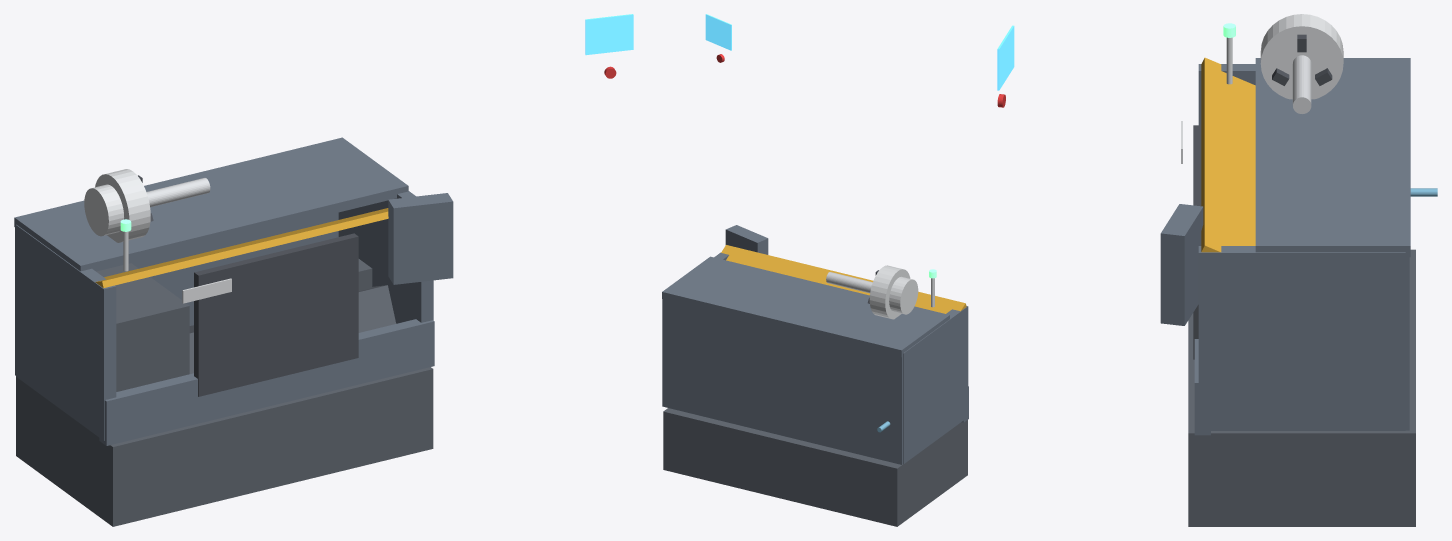
The model's file is lathe_01.glb.
3 renders of one model, left to right at view 1: azimuth 30°, elevation 25°; view 2: azimuth 150°, elevation 25°; view 3: azimuth 270°, elevation 25°, orthographic. The views are drawn at different scales.
Parts seen in each view (by area): view 1: LATHE_01_BASE, LATHE_01_ENCLOSURE_ROOF, LATHE_01_DOOR, LATHE_01_ENCLOSURE_LEFT, LATHE_01_FRONT_SILL, LATHE_01_HEADSTOCK, LATHE_01_CONTROL_PANEL, LATHE_01_ENCLOSURE_RIGHT, LATHE_01_ENCLOSURE_REAR, LATHE_01_ROOF_VISOR, LATHE_01_CHUCK, LATHE_01_SCREEN (+4 smaller); view 2: LATHE_01_ENCLOSURE_REAR, LATHE_01_BASE, LATHE_01_ENCLOSURE_ROOF, LATHE_01_ENCLOSURE_LEFT, LATHE_01_ROOF_VISOR, LATHE_01_CHUCK, LATHE_01_SPINDLE_NOSE, LATHE_01_CONTROL_PANEL, LATHE_01_SCREEN, LATHE_01_WORKPIECE; view 3: LATHE_01_ENCLOSURE_RIGHT, LATHE_01_ENCLOSURE_ROOF, LATHE_01_BASE, LATHE_01_ROOF_VISOR, LATHE_01_CHUCK, LATHE_01_CONTROL_PANEL, LATHE_01_WORKPIECE, LATHE_01_DOOR, LATHE_01_ENCLOSURE_REAR, LATHE_01_SCREEN, LATHE_01_ENCLOSURE_LEFT, LATHE_01_FRONT_SILL.
Boxes of the visible parts, x1,y1,x2,y2 form: LATHE_01_BASE: (16,367,433,526); LATHE_01_ENCLOSURE_ROOF: (14,137,408,271); LATHE_01_DOOR: (194,233,358,396); LATHE_01_ENCLOSURE_LEFT: (16,224,116,440); LATHE_01_FRONT_SILL: (99,319,434,445); LATHE_01_HEADSTOCK: (96,263,189,391); LATHE_01_CONTROL_PANEL: (388,193,453,284); LATHE_01_ENCLOSURE_RIGHT: (338,191,433,323); LATHE_01_ENCLOSURE_REAR: (15,212,338,375); LATHE_01_ROOF_VISOR: (95,208,388,288); LATHE_01_CHUCK: (95,169,150,242); LATHE_01_SCREEN: (585,14,633,55); LATHE_01_ENCLOSURE_REAR: (662,299,903,464); LATHE_01_BASE: (663,408,967,526); LATHE_01_ENCLOSURE_ROOF: (662,256,949,357); LATHE_01_ENCLOSURE_LEFT: (903,306,968,463); LATHE_01_ROOF_VISOR: (721,245,966,313); LATHE_01_CHUCK: (869,265,910,319); LATHE_01_SPINDLE_NOSE: (889,276,918,314); LATHE_01_CONTROL_PANEL: (725,225,768,254); LATHE_01_SCREEN: (705,14,731,50); LATHE_01_WORKPIECE: (826,272,872,293); LATHE_01_ENCLOSURE_RIGHT: (1198,246,1405,430); LATHE_01_ENCLOSURE_ROOF: (1255,58,1410,257); LATHE_01_BASE: (1188,249,1415,526); LATHE_01_ROOF_VISOR: (1201,57,1255,252); LATHE_01_CHUCK: (1260,14,1343,99); LATHE_01_CONTROL_PANEL: (1160,204,1203,325); LATHE_01_WORKPIECE: (1292,55,1311,113); LATHE_01_DOOR: (1193,125,1201,359); LATHE_01_ENCLOSURE_REAR: (1405,252,1409,430); LATHE_01_SCREEN: (997,25,1014,90); LATHE_01_ENCLOSURE_LEFT: (1198,64,1255,125); LATHE_01_FRONT_SILL: (1194,339,1210,435).
Bounding box in the file's own units: 2.91 × 2.91 × 2.13.
